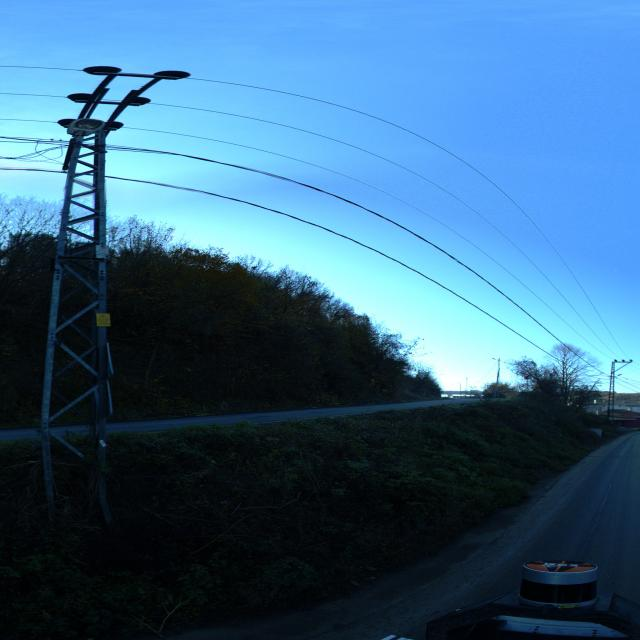Utility Pole Information Plate: (95, 313, 111, 327), (97, 245, 109, 259)
